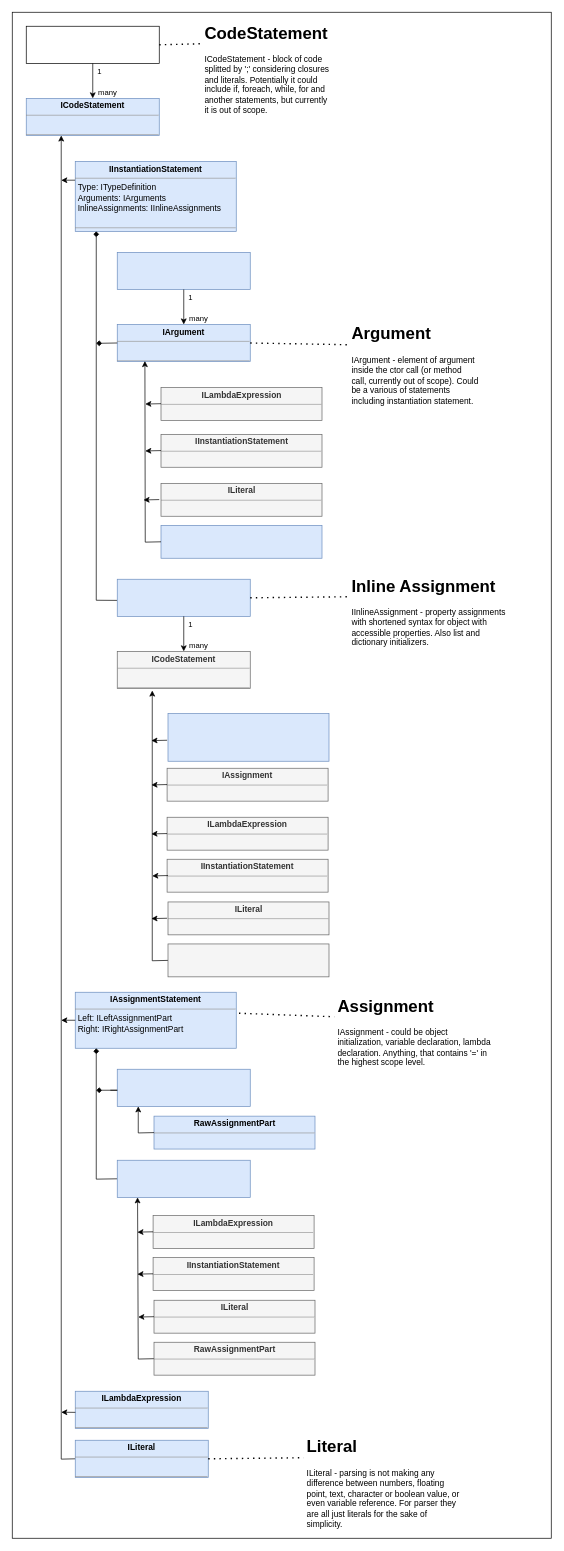
Image size: 564x1551. Some labels were removed from this diagram. The shapes that lost their labels are listed below. From the top down, each one's centre as x and y in pixels, then its label:
point 92,44: ISyntaxTree
point 183,270: IArguments
point 241,541: RawArgument
point 183,597: IInlineAssignments
point 248,737: IDictionaryInlineAssignment Key: ICodeStatement Value: ICodeStatement
point 248,960: RawAssignment
point 183,1087: ILeftAssignmentPart
point 183,1178: IRightAssignmentPart
